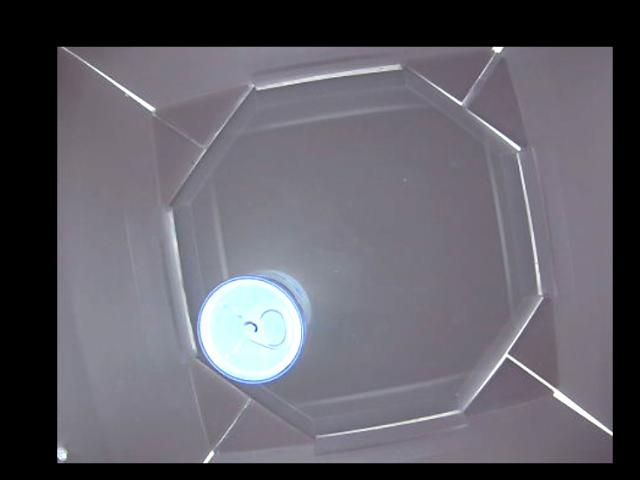Bottle: (198, 271, 309, 384)
